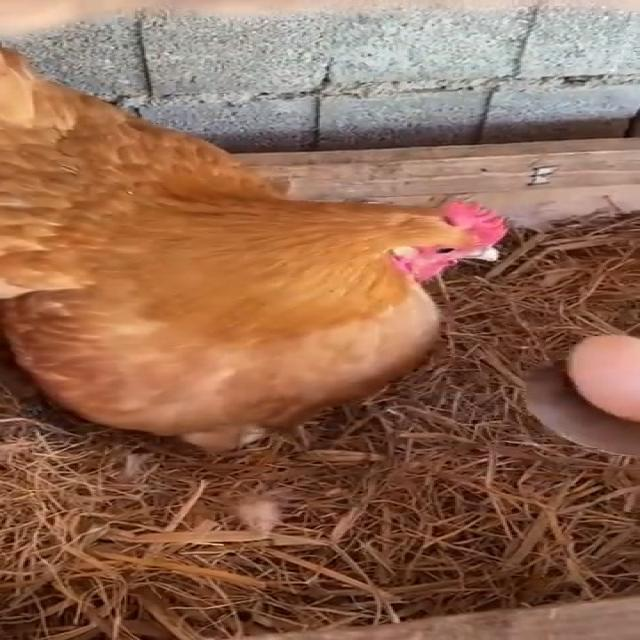crouch chicken: (0, 16, 505, 454)
